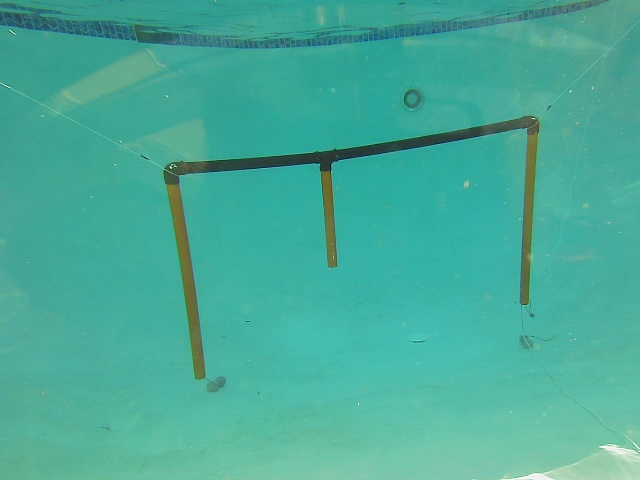Gate: (162, 179, 210, 381), (514, 128, 540, 310), (318, 165, 341, 270)
